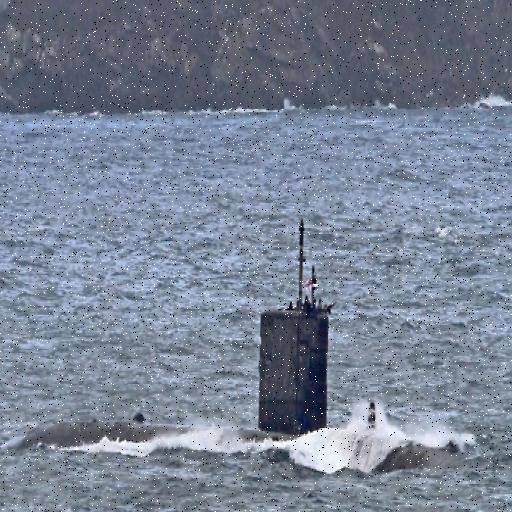submarine: (1, 222, 478, 469)
